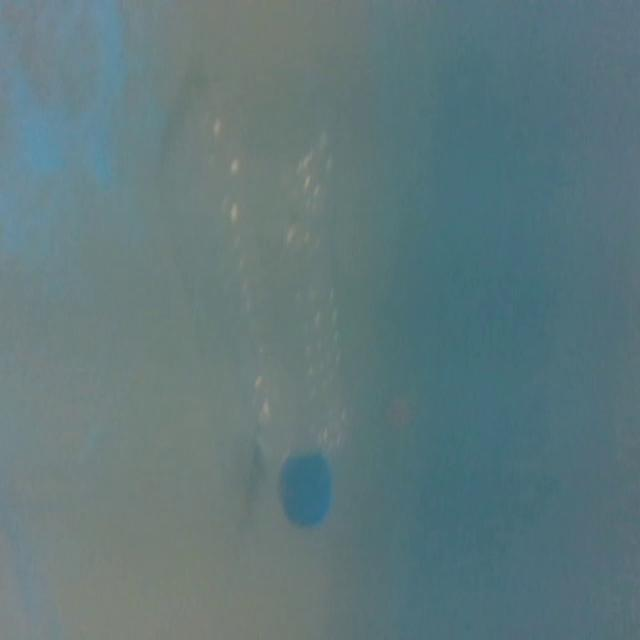plastic bottle: (212, 97, 364, 536)
